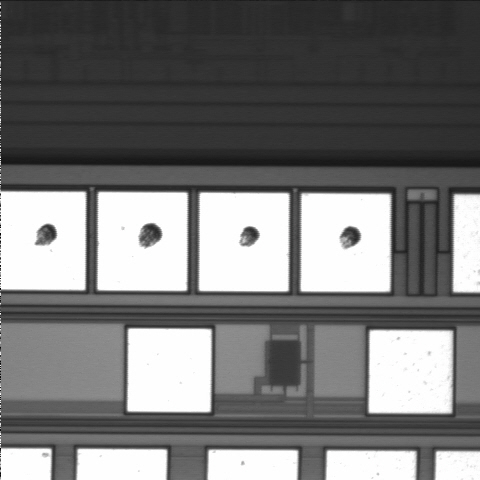pad: (199, 193, 289, 291), (98, 192, 187, 291), (301, 194, 390, 292), (128, 329, 211, 412), (369, 330, 452, 413)
